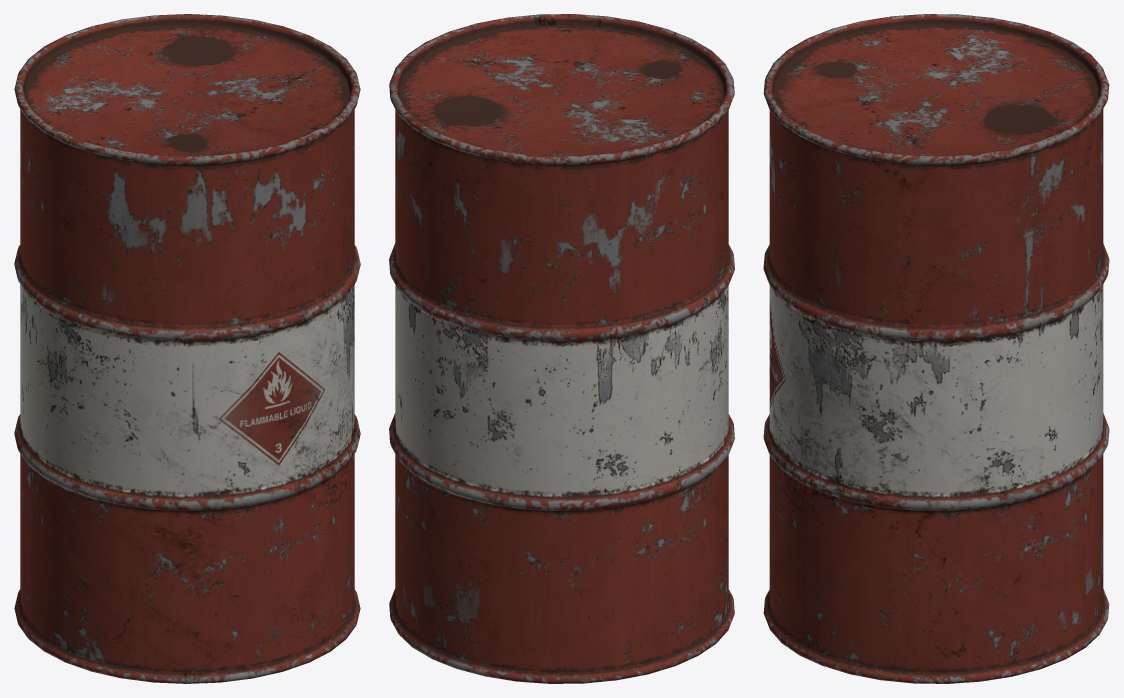
Rendered from Barrel_4.glb.
3 renders of one model, left to right at view 1: azimuth 30°, elevation 25°; view 2: azimuth 150°, elevation 25°; view 3: azimuth 270°, elevation 25°, orthographic.
Parts seen in each view (by area): view 1: Barrel3_low.001_Metal3_v2_0; view 2: Barrel3_low.001_Metal3_v2_0; view 3: Barrel3_low.001_Metal3_v2_0.
Boxes of the visible parts, x1,y1,x2,y2 form: Barrel3_low.001_Metal3_v2_0: [14, 14, 360, 683]; Barrel3_low.001_Metal3_v2_0: [389, 14, 734, 683]; Barrel3_low.001_Metal3_v2_0: [763, 14, 1109, 683].
Bounding box in the file's own units: 0.4112 × 0.6896 × 0.4112.
Materials: 1 (1 with a texture image).
